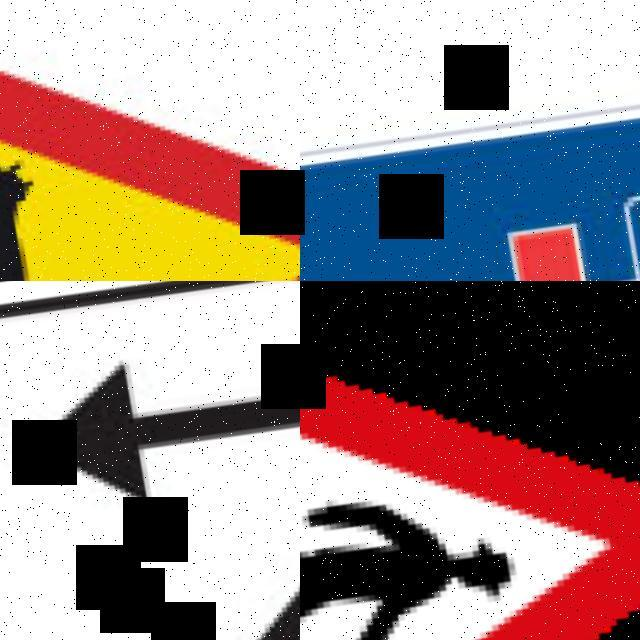136: (0, 0, 300, 281)
179: (0, 281, 300, 640)
No entry for bicycles: (300, 83, 640, 281)
Pedestrian crossing: (300, 281, 640, 640)
